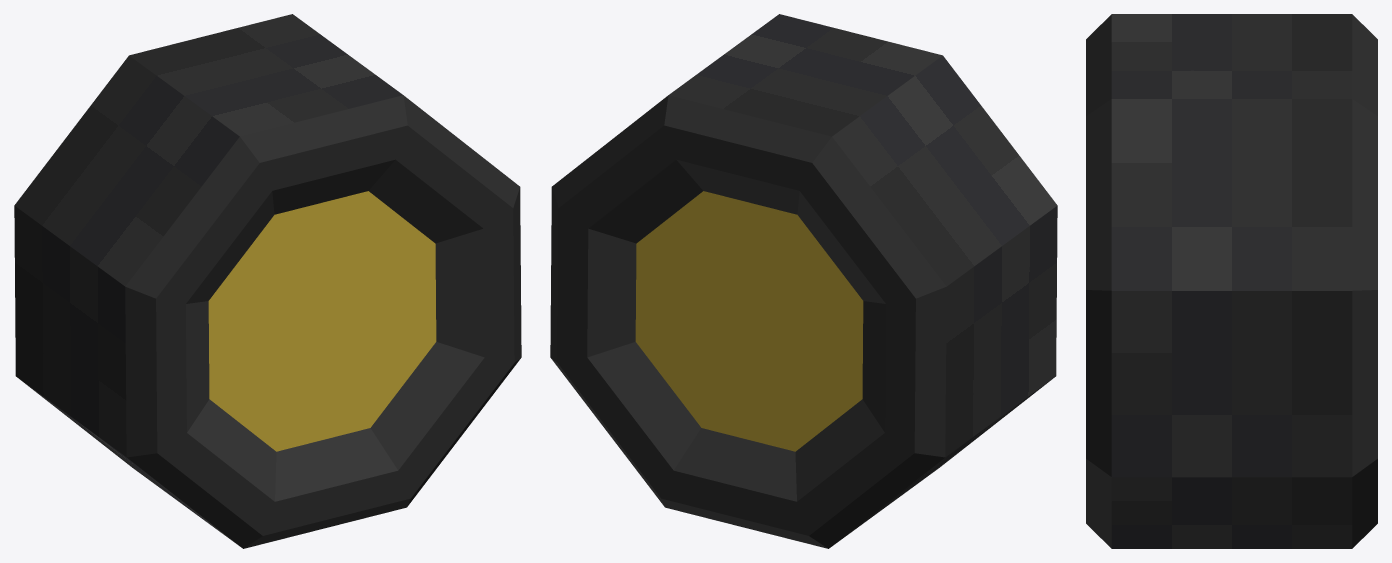
Rendered from RodaFrenteJorge.fbx.
3 renders of one model, left to right at view 1: azimuth 30°, elevation 25°; view 2: azimuth 150°, elevation 25°; view 3: azimuth 270°, elevation 25°, orthographic. The views are drawn at different scales.
Parts seen in each view (by area): view 1: Cylinder.001; view 2: Cylinder.001; view 3: Cylinder.001.
Boxes of the visible parts, x1,y1,x2,y2 form: Cylinder.001: (14,14,521,548); Cylinder.001: (550,14,1057,548); Cylinder.001: (1086,14,1377,548).
Bounding box in the file's own units: 51 × 51 × 30.
2 materials, 2 textured.
